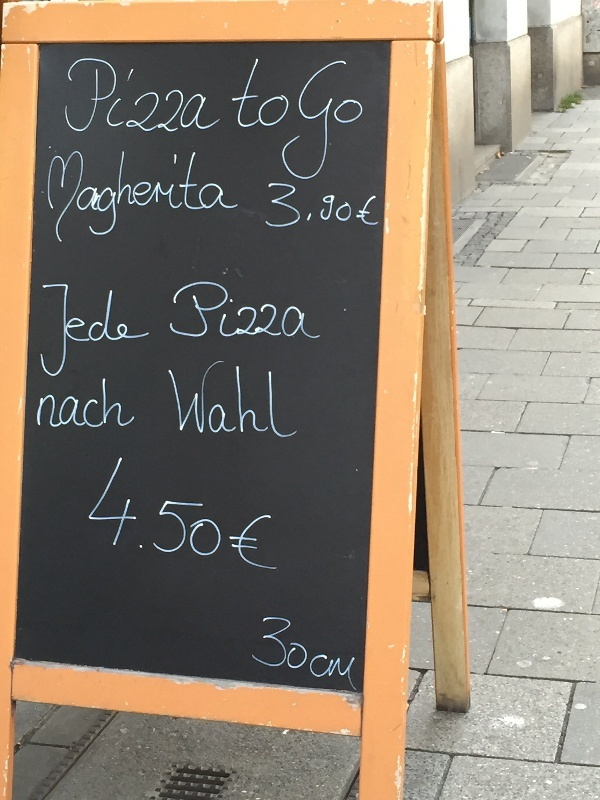text: (129, 456, 144, 594), (145, 456, 160, 594), (161, 456, 176, 594), (177, 456, 192, 594), (193, 456, 208, 594), (209, 456, 224, 594), (225, 456, 240, 594), (241, 456, 256, 594), (257, 456, 272, 594), (289, 56, 304, 193), (305, 56, 320, 193), (321, 56, 336, 193), (337, 56, 352, 193), (65, 148, 80, 260), (81, 148, 96, 260), (97, 148, 112, 260), (113, 148, 128, 260), (129, 148, 144, 260), (145, 148, 160, 260), (161, 148, 176, 260), (177, 148, 192, 260), (193, 148, 208, 260), (209, 148, 224, 260), (225, 148, 239, 260), (353, 56, 364, 193), (273, 606, 288, 704), (289, 606, 304, 704), (305, 606, 320, 704), (321, 606, 336, 704), (337, 606, 352, 704), (51, 148, 64, 260), (49, 284, 64, 380), (65, 284, 80, 380), (81, 284, 96, 380), (97, 284, 112, 380), (113, 284, 128, 380), (129, 284, 144, 380), (177, 275, 192, 364), (193, 275, 208, 364), (209, 275, 224, 364), (225, 275, 240, 364), (241, 275, 256, 364), (257, 275, 272, 364), (273, 275, 288, 364), (289, 275, 304, 364), (305, 275, 320, 364), (81, 57, 96, 143), (97, 57, 112, 143), (113, 57, 128, 143), (129, 57, 144, 143), (145, 57, 160, 143), (161, 57, 176, 143), (177, 57, 192, 143), (193, 57, 208, 143), (177, 357, 192, 439), (193, 357, 208, 439), (209, 357, 224, 439), (225, 357, 240, 439), (241, 357, 256, 439), (257, 357, 272, 439), (273, 357, 288, 439), (241, 56, 256, 131), (257, 56, 272, 131), (273, 56, 288, 131), (209, 57, 221, 143), (121, 456, 128, 594), (273, 456, 280, 594), (69, 57, 80, 143), (273, 182, 288, 238), (289, 182, 304, 238), (305, 182, 320, 238), (321, 182, 336, 238), (337, 182, 352, 238), (353, 182, 368, 238), (166, 357, 176, 439), (49, 376, 64, 430), (65, 376, 80, 430), (81, 376, 96, 430), (97, 376, 112, 430), (113, 376, 128, 430), (264, 606, 272, 704), (289, 357, 298, 439), (353, 606, 360, 704), (369, 182, 379, 238), (43, 284, 48, 380), (234, 56, 240, 131), (40, 376, 48, 430), (145, 284, 149, 380), (129, 376, 136, 430), (173, 275, 176, 364), (268, 182, 272, 238), (289, 56, 291, 131)
